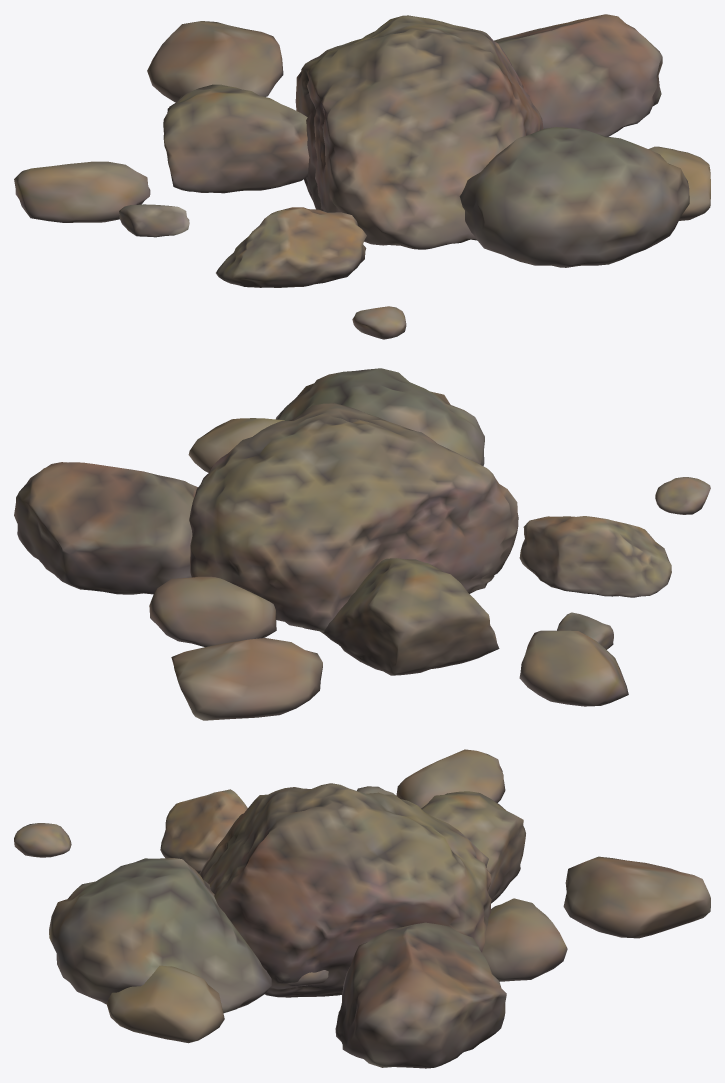
The model's file is tas_cakil.glb.
3 renders of one model, top to bottom at view 1: azimuth 30°, elevation 25°; view 2: azimuth 150°, elevation 25°; view 3: azimuth 270°, elevation 25°, orthographic. The views are drawn at different scales.
Visible parts, largest first — view 1: tas_cakil_LOD0; view 2: tas_cakil_LOD0; view 3: tas_cakil_LOD0.
Boxes of the visible parts, x1,y1,x2,y2 form: tas_cakil_LOD0: (14,14,710,339); tas_cakil_LOD0: (14,368,710,720); tas_cakil_LOD0: (14,749,710,1068).
Size of what is drawn, in the model's own units: 1.91 by 0.4921 by 1.91.
